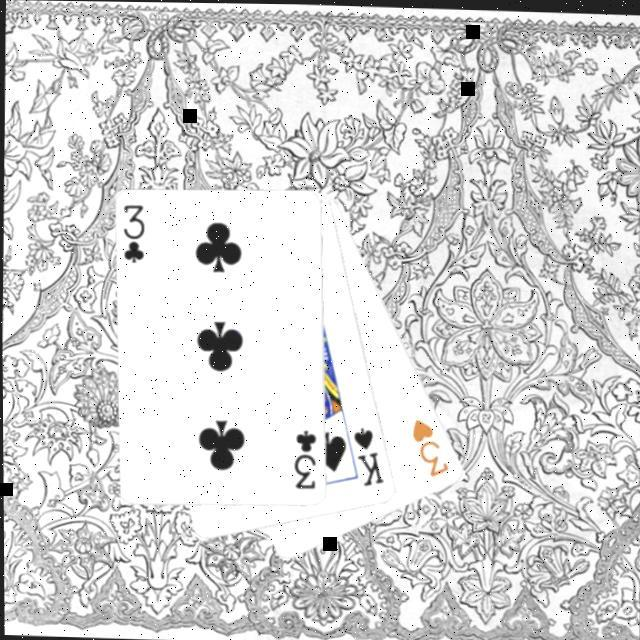3C: (288, 424, 317, 490), (118, 200, 147, 264)
3H: (406, 413, 451, 479)
KS: (347, 421, 386, 488)
